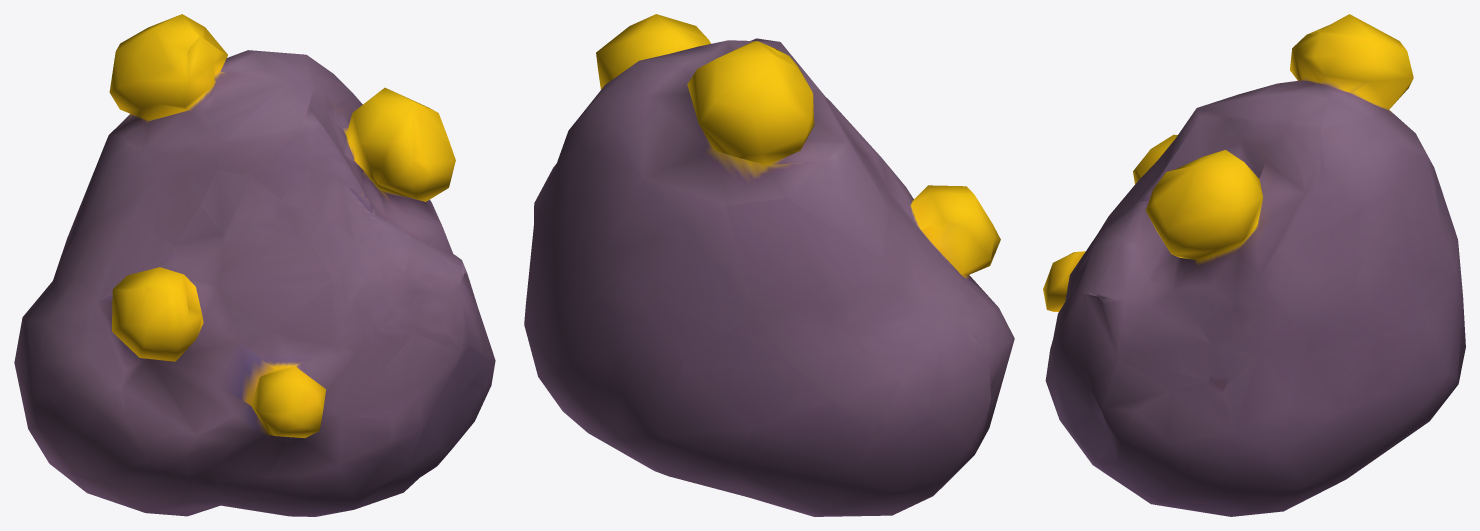
File: kaya_lod2.glb
3 views of the same model, side by side, from view 1: azimuth 30°, elevation 25°; view 2: azimuth 150°, elevation 25°; view 3: azimuth 270°, elevation 25° (orthographic). The views are drawn at different scales.
Parts seen in each view (by area): view 1: kaya_lod2; view 2: kaya_lod2; view 3: kaya_lod2.
Boxes of the visible parts, bbox=[...] form: kaya_lod2: bbox=[14, 14, 495, 516]; kaya_lod2: bbox=[524, 14, 1014, 516]; kaya_lod2: bbox=[1043, 14, 1465, 516].
Size of the model in its own units: 1.33 by 1.3 by 1.16.
Materials: 1 (1 with a texture image).
